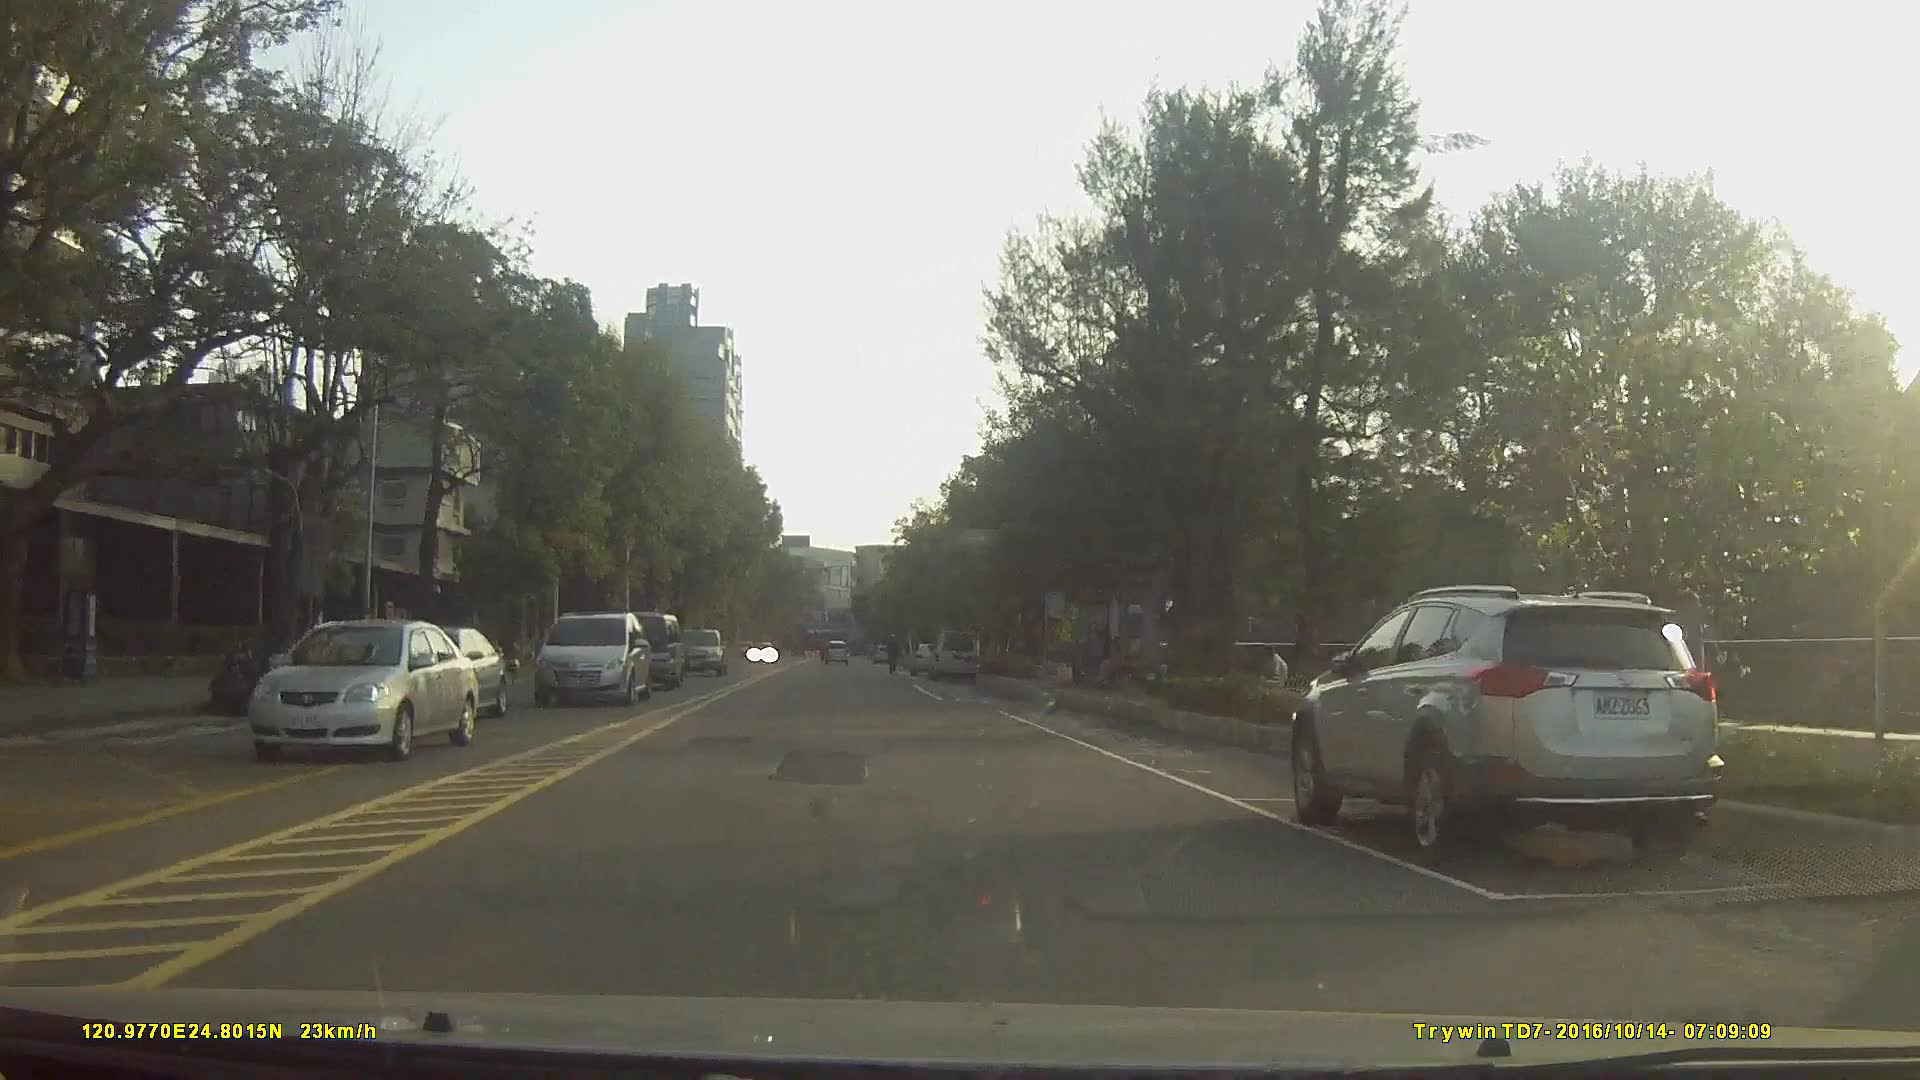rider: (884, 633, 904, 677)
vehicle: (1292, 583, 1726, 867), (243, 618, 477, 761), (533, 612, 651, 707), (926, 625, 982, 680), (674, 626, 727, 675), (908, 641, 944, 676), (821, 636, 850, 665)
